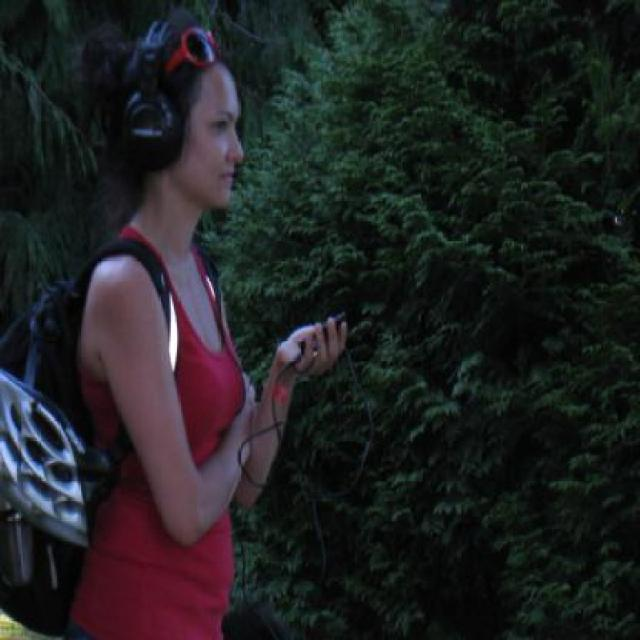earphone: (125, 2, 190, 165)
